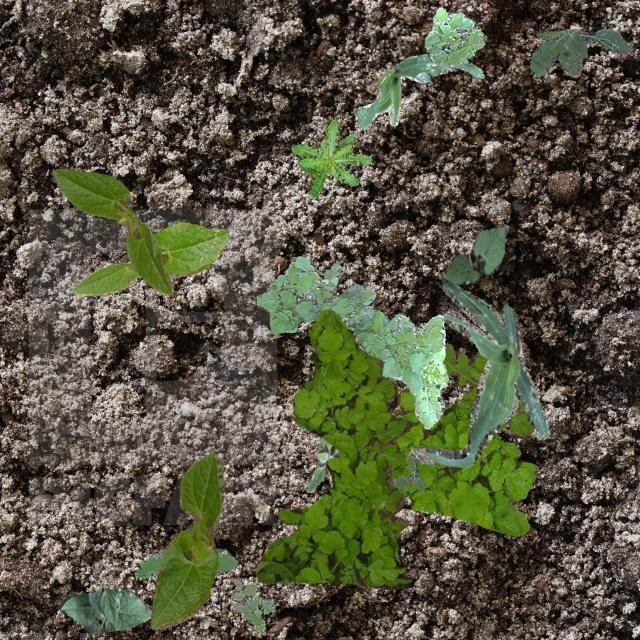crop: (408, 278, 548, 466), (51, 168, 172, 294), (150, 450, 223, 628), (68, 222, 226, 296), (353, 53, 482, 128), (57, 586, 152, 632), (440, 222, 508, 284)
weed: (254, 308, 410, 588), (256, 256, 448, 428), (386, 386, 536, 536), (440, 342, 532, 436), (290, 118, 370, 196), (528, 28, 632, 76), (424, 6, 486, 64), (134, 548, 236, 578), (230, 576, 274, 630), (304, 434, 339, 492), (390, 454, 424, 491)
